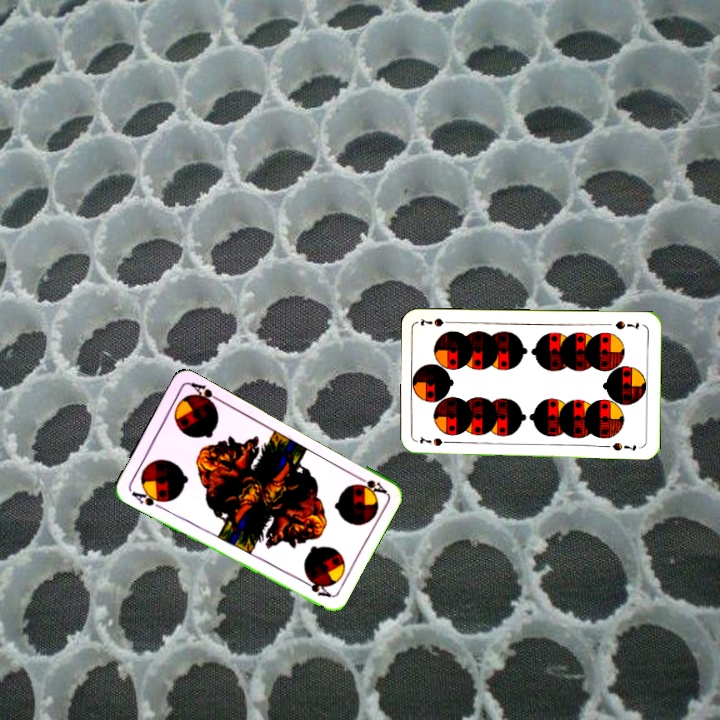S7: (416, 433, 455, 449), (611, 317, 641, 332)
SA: (127, 486, 168, 512), (351, 471, 389, 497)
